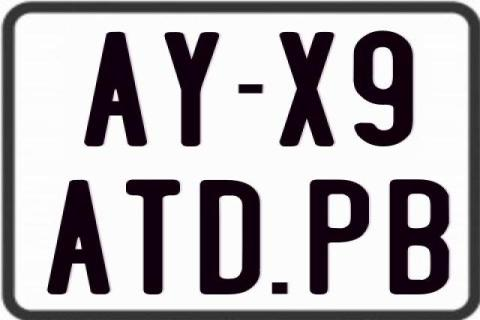0: (353, 29, 413, 149)
A: (46, 178, 111, 296), (82, 32, 146, 151)
B: (387, 177, 449, 297)
D: (200, 178, 261, 296)
P: (310, 177, 374, 297)
T: (123, 180, 177, 298)
X: (278, 31, 337, 149)
Y: (164, 31, 218, 146)
